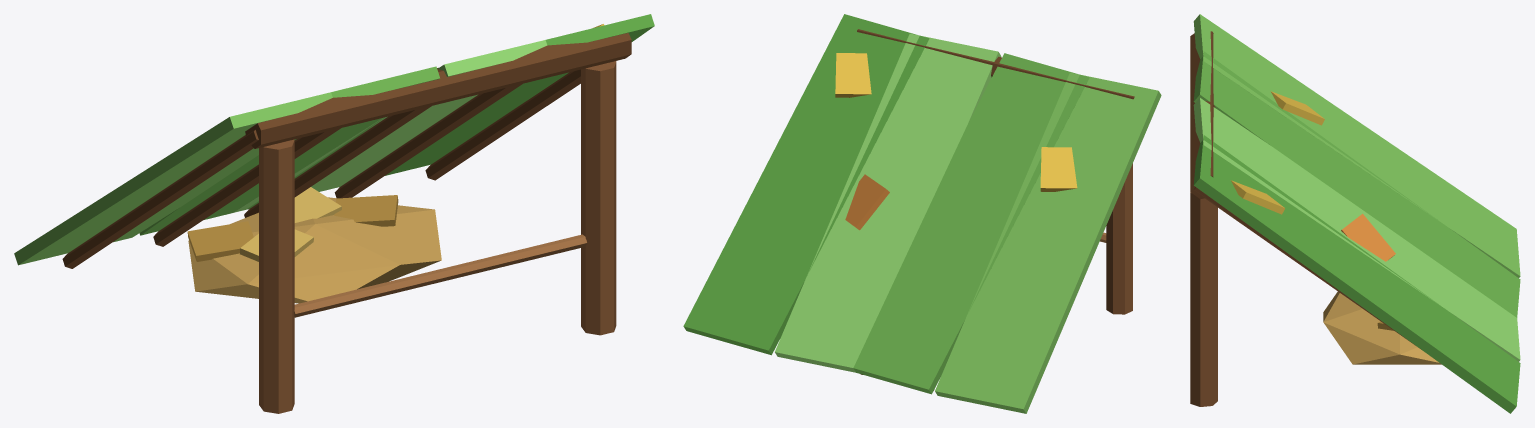
File: abrigo.glb
3 renders of one model, left to right at view 1: azimuth 30°, elevation 25°; view 2: azimuth 150°, elevation 25°; view 3: azimuth 270°, elevation 25°, orthographic. The views are drawn at different scales.
Parts seen in each view (by area): view 1: monte_folhas_secas, viga_cumeeira, poste_frente_esq, poste_frente_dir, folha_telhado_0, folha_telhado_2, folha_telhado_1, folha_telhado_3, travessa_frente, galho_telhado_0, galho_telhado_3, galho_telhado_4 (+6 smaller); view 2: folha_telhado_0, folha_telhado_3, folha_telhado_1, folha_telhado_2, poste_frente_esq, folha_colorida_0, folha_colorida_2, folha_colorida_1, viga_cumeeira; view 3: folha_telhado_3, folha_telhado_1, folha_telhado_0, folha_telhado_2, poste_frente_dir, monte_folhas_secas, viga_cumeeira, folha_colorida_1, galho_telhado_4, folha_colorida_2, folha_colorida_0.
Part boxes in pixels (left/top/right/bottom): monte_folhas_secas: left=188, top=197, right=441, bottom=303; viga_cumeeira: left=245, top=33, right=631, bottom=148; poste_frente_esq: left=259, top=139, right=294, bottom=413; poste_frente_dir: left=581, top=61, right=616, bottom=335; folha_telhado_0: left=14, top=92, right=332, bottom=265; folha_telhado_2: left=233, top=40, right=547, bottom=212; folha_telhado_1: left=139, top=66, right=439, bottom=235; folha_telhado_3: left=385, top=14, right=654, bottom=175; travessa_frente: left=294, top=234, right=586, bottom=317; galho_telhado_0: left=62, top=130, right=258, bottom=268; galho_telhado_3: left=334, top=83, right=522, bottom=198; galho_telhado_4: left=425, top=69, right=580, bottom=180; folha_telhado_0: left=935, top=72, right=1161, bottom=413; folha_telhado_3: left=683, top=14, right=929, bottom=355; folha_telhado_1: left=853, top=53, right=1089, bottom=394; folha_telhado_2: left=775, top=33, right=1001, bottom=372; poste_frente_esq: left=1106, top=163, right=1132, bottom=314; folha_colorida_0: left=1040, top=147, right=1077, bottom=191; folha_colorida_2: left=835, top=53, right=871, bottom=97; folha_colorida_1: left=845, top=174, right=889, bottom=230; viga_cumeeira: left=857, top=29, right=1134, bottom=99; folha_telhado_3: left=1193, top=135, right=1520, bottom=413; folha_telhado_1: left=1193, top=51, right=1520, bottom=317; folha_telhado_0: left=1193, top=14, right=1520, bottom=277; folha_telhado_2: left=1193, top=98, right=1520, bottom=361; poste_frente_dir: left=1190, top=192, right=1217, bottom=406; monte_folhas_secas: left=1323, top=291, right=1441, bottom=364; viga_cumeeira: left=1190, top=31, right=1215, bottom=199; folha_colorida_1: left=1341, top=213, right=1395, bottom=261; galho_telhado_4: left=1194, top=187, right=1415, bottom=345; folha_colorida_2: left=1231, top=180, right=1284, bottom=214; folha_colorida_0: left=1271, top=91, right=1324, bottom=125.
Bounding box in the file's own units: 2.89 × 1.84 × 2.27.
